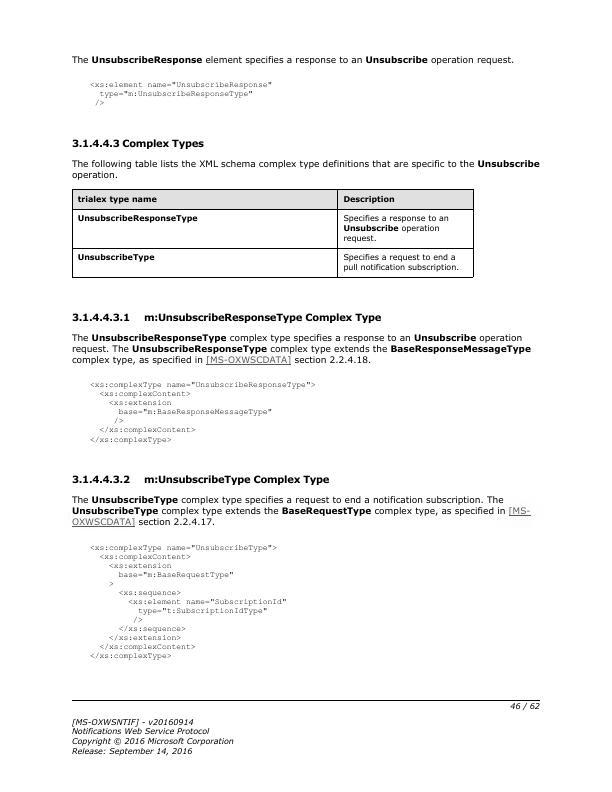table: (70, 187, 476, 283)
text: (86, 542, 289, 661), (68, 331, 533, 366), (71, 493, 533, 528), (86, 379, 317, 446), (68, 155, 540, 180), (68, 714, 236, 758), (68, 52, 515, 67), (87, 79, 276, 107), (68, 310, 384, 325), (70, 473, 331, 486), (68, 135, 206, 150)
